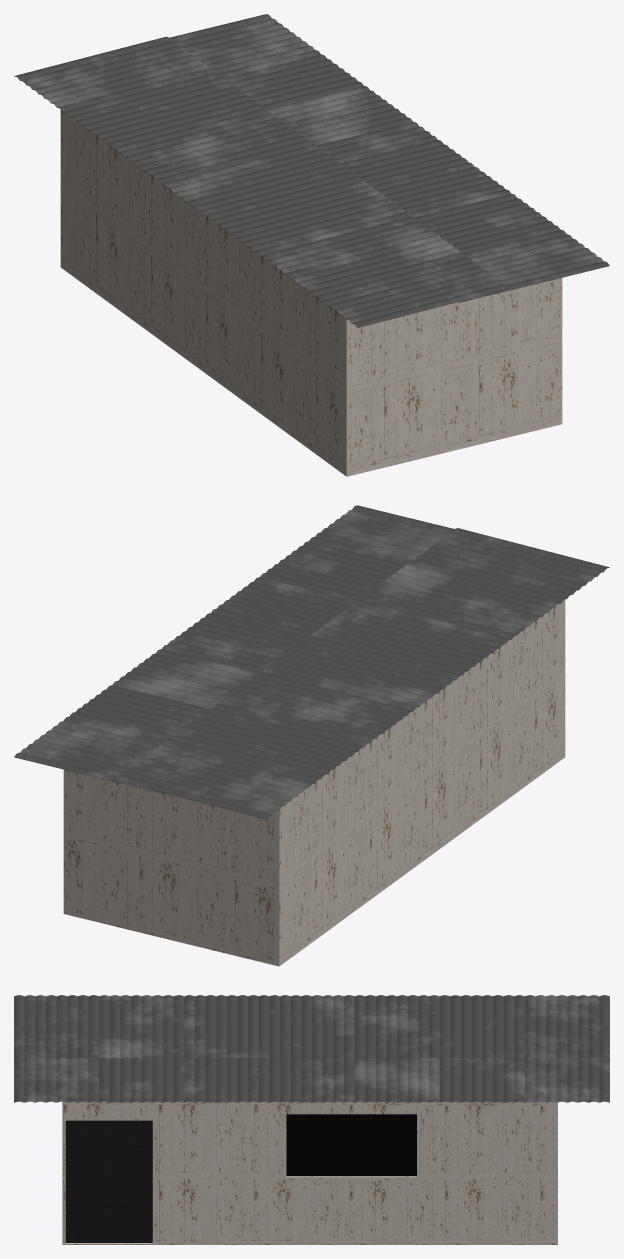
The model's file is Casa08.fbx.
3 renders of one model, top to bottom at view 1: azimuth 30°, elevation 25°; view 2: azimuth 150°, elevation 25°; view 3: azimuth 270°, elevation 25°, orthographic. The views are drawn at different scales.
Parts seen in each view (by area): view 1: Techo_1.007, Casa 08; view 2: Techo_1.007, Casa 08; view 3: Casa 08, Techo_1.007.
Part boxes in pixels (box(x1,y1,x2,y2)): Techo_1.007: box(14, 14, 609, 327); Casa 08: box(60, 109, 562, 476); Techo_1.007: box(14, 505, 609, 819); Casa 08: box(63, 599, 565, 966); Casa 08: box(62, 1101, 557, 1244); Techo_1.007: box(14, 995, 609, 1102).
Bounding box in the file's own units: 2563 × 1722 × 6055.
